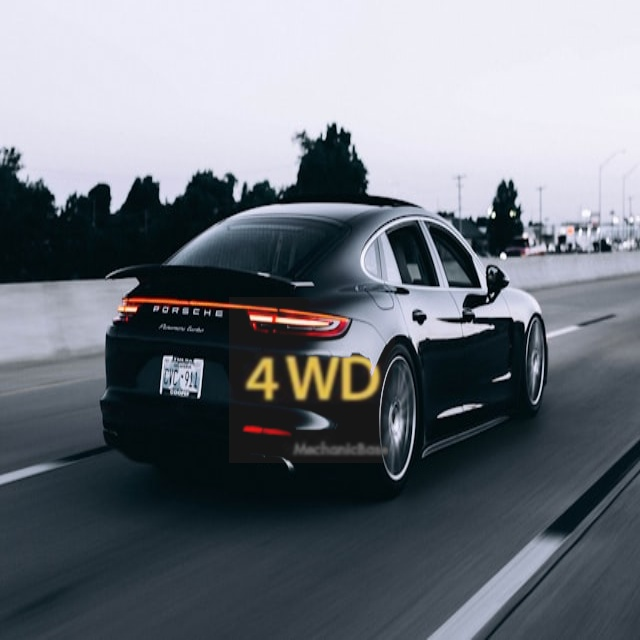symbol: (229, 297, 395, 463)
